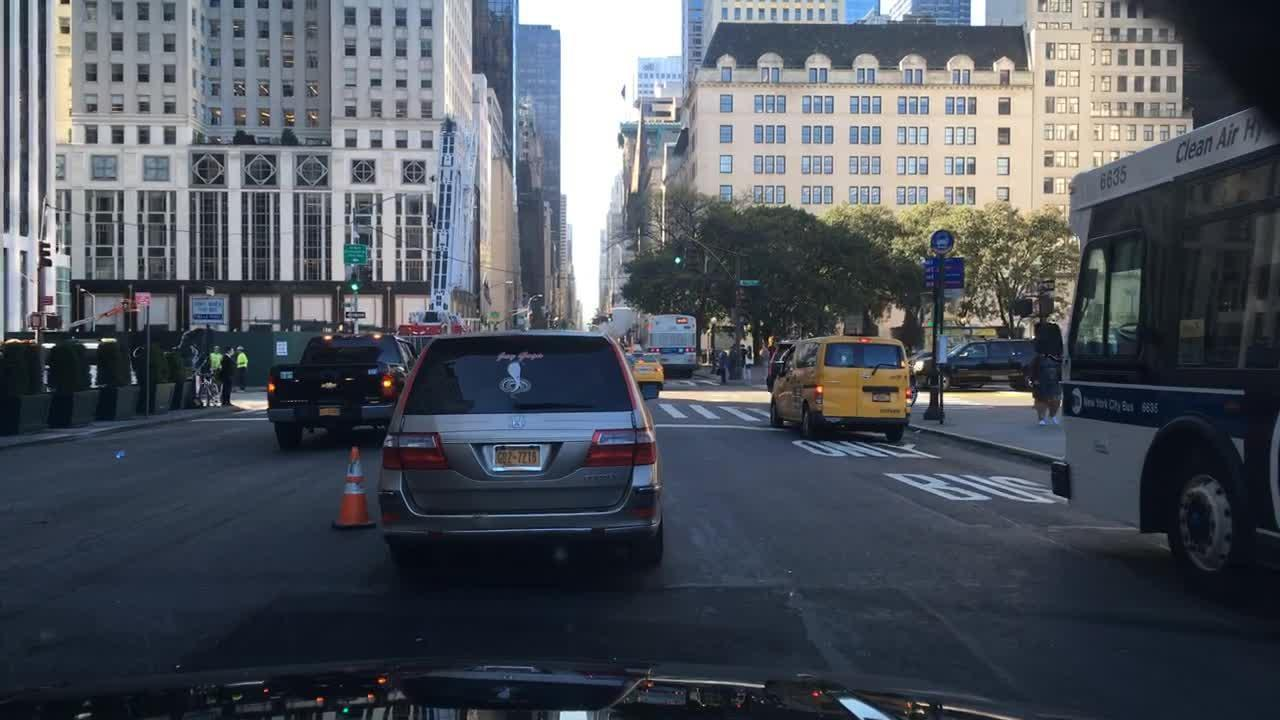Honda: (508, 415, 529, 429)
chevrolet: (314, 378, 341, 392)
